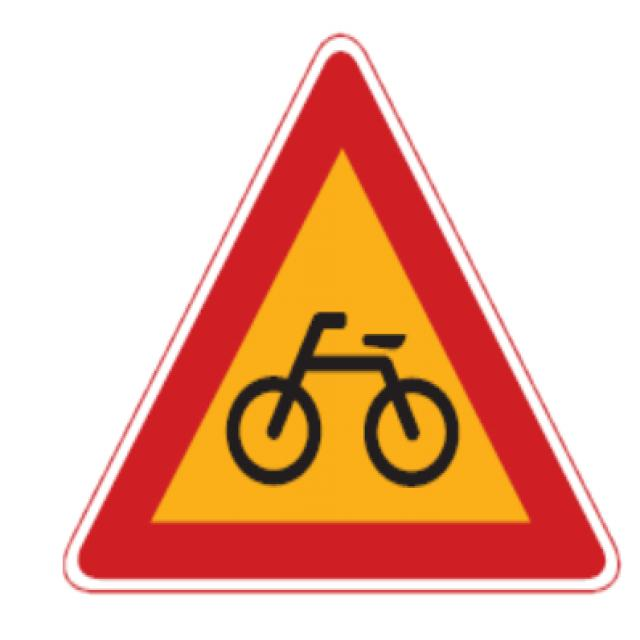Bicycles: (52, 24, 627, 603)
